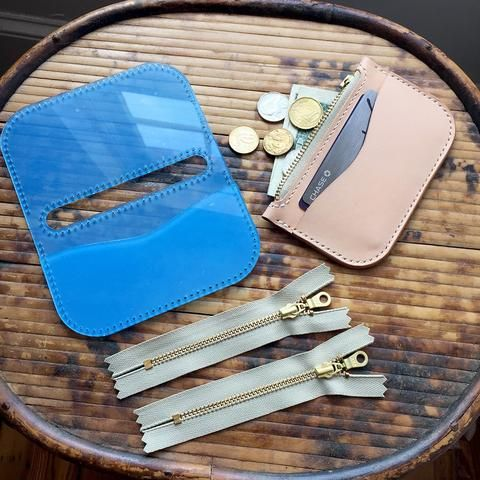cuero: (261, 56, 456, 267)
